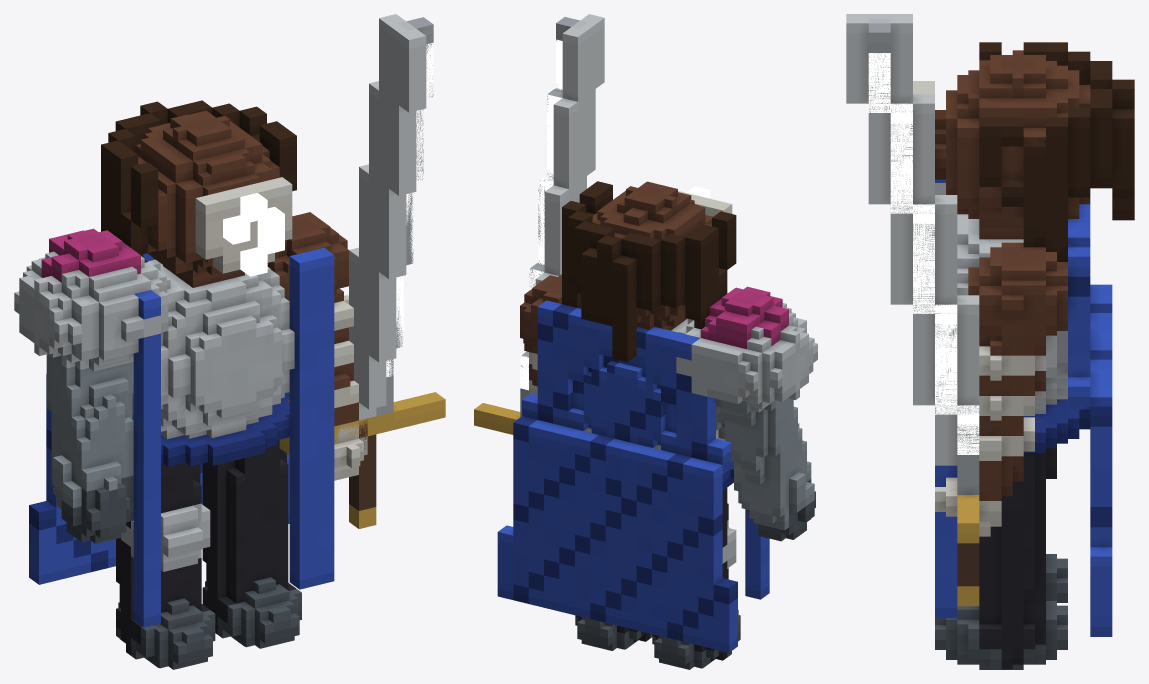
The model's file is u_tidiane__garde.glb.
The picture shows the model from 3 angles, left to right: view 1: azimuth 30°, elevation 25°; view 2: azimuth 150°, elevation 25°; view 3: azimuth 270°, elevation 25°; orthographic projection. The views are drawn at different scales.
Parts seen in each view (by area): view 1: tidiane_body, tidiane_weapon, tidiane_glow, tidiane_weaponglow; view 2: tidiane_body, tidiane_weapon, tidiane_weaponglow; view 3: tidiane_body, tidiane_weapon, tidiane_weaponglow.
Boxes of the visible parts, <box> form: tidiane_body: <box>14,100,367,669</box>; tidiane_weapon: <box>279,14,445,528</box>; tidiane_glow: <box>223,193,284,276</box>; tidiane_weaponglow: <box>386,43,433,377</box>; tidiane_body: <box>497,181,817,669</box>; tidiane_weapon: <box>474,14,604,434</box>; tidiane_weaponglow: <box>520,39,562,390</box>; tidiane_body: <box>913,42,1134,669</box>; tidiane_weapon: <box>846,14,979,606</box>; tidiane_weaponglow: <box>868,53,979,454</box>.
Bounding box in the file's own units: 1.1 × 1.73 × 0.65.
